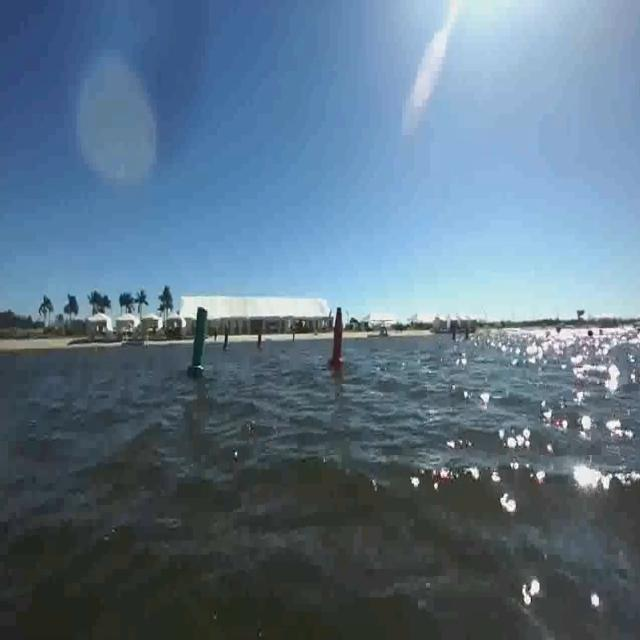green-column-buoy: (186, 305, 209, 376)
red-column-buoy: (330, 307, 348, 369), (256, 330, 264, 350)
